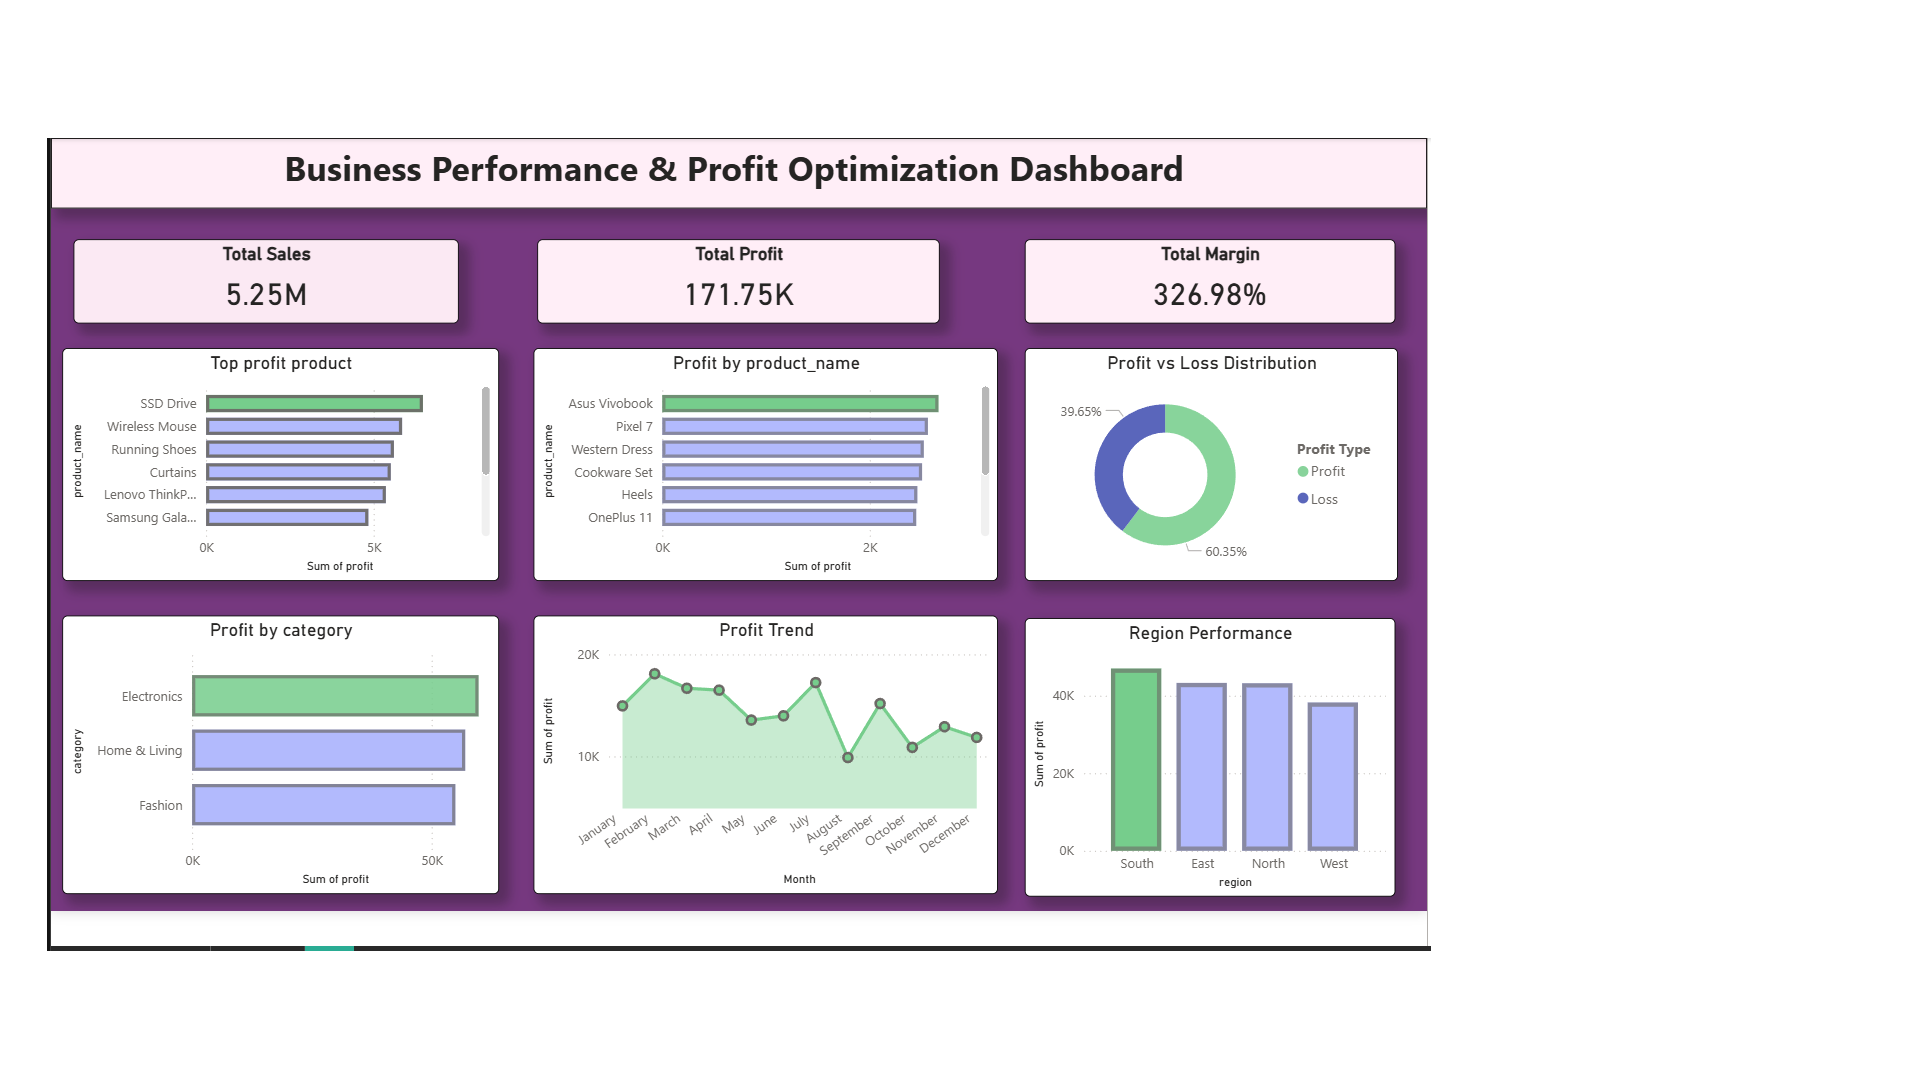

Layout of this report page (visuals, bound fields, positions):
{"tool":"powerbi","page":{"name":"Page 1","canvas":[1280,720],"ordinal":0},"visuals":[{"type":"card","title":"Total Sales","fields":{"Values":["Sum(Sheet1.sales)"]},"box":[20.6,94.7,358.1,78.2],"z":0},{"type":"card","title":"Total Profit","fields":{"Values":["Sum(Sheet1.profit)"]},"box":[452.8,94.7,374.6,78.2],"z":1},{"type":"card","title":"Total Margin","fields":{"Values":["Sheet1.Profit_Margin"]},"box":[905.7,94.7,344.4,78.2],"z":2},{"type":"donutChart","title":"Profit vs Loss Distribution","fields":{"Category":["Sheet1.Profit Type"],"Y":["CountNonNull(Sheet1.order_id)"]},"box":[905.7,194.9,347.2,216.8],"z":3},{"type":"clusteredBarChart","title":"Profit by category","fields":{"Y":["Sum(Sheet1.profit)"],"Category":["Sheet1.category"]},"box":[11,444.6,406.2,259.3],"z":4},{"type":"clusteredBarChart","title":"Top profit product","fields":{"Category":["Sheet1.product_name"],"Y":["Sum(Sheet1.profit)"]},"box":[11,194.9,406.2,216.8],"z":5},{"type":"clusteredBarChart","title":"Profit by product_name","fields":{"Category":["Sheet1.product_name"],"Y":["Sum(Sheet1.profit)"]},"box":[448.7,194.9,432.2,216.8],"z":6},{"type":"lineChart","title":"Profit Trend","fields":{"Category":["Sheet1.order_date.Variation.Date Hierarchy.Month"],"Y":["Sum(Sheet1.profit)"]},"box":[448.7,444.6,432.2,259.3],"z":7},{"type":"lineStackedColumnComboChart","title":" Region Performance","fields":{"Category":["Sheet1.region"],"Y":["Sum(Sheet1.profit)"]},"box":[905.7,446,344.4,259.3],"z":8},{"type":"textbox","box":[0,0,1280.3,65.9],"z":9}]}

Visuals, with their boxes in screenshot pixels (x1, y1, x2, y2), scaled from the page's 1280x720 canvas onto the 1920x1080 screenshot:
"Total Sales" card: BBox(31, 142, 568, 259)
"Total Profit" card: BBox(679, 142, 1241, 259)
"Total Margin" card: BBox(1359, 142, 1875, 259)
"Profit vs Loss Distribution" donutChart: BBox(1359, 292, 1879, 618)
"Profit by category" clusteredBarChart: BBox(16, 667, 626, 1056)
"Top profit product" clusteredBarChart: BBox(16, 292, 626, 618)
"Profit by product_name" clusteredBarChart: BBox(673, 292, 1321, 618)
"Profit Trend" lineChart: BBox(673, 667, 1321, 1056)
" Region Performance" lineStackedColumnComboChart: BBox(1359, 669, 1875, 1058)
textbox: BBox(0, 0, 1919, 99)
